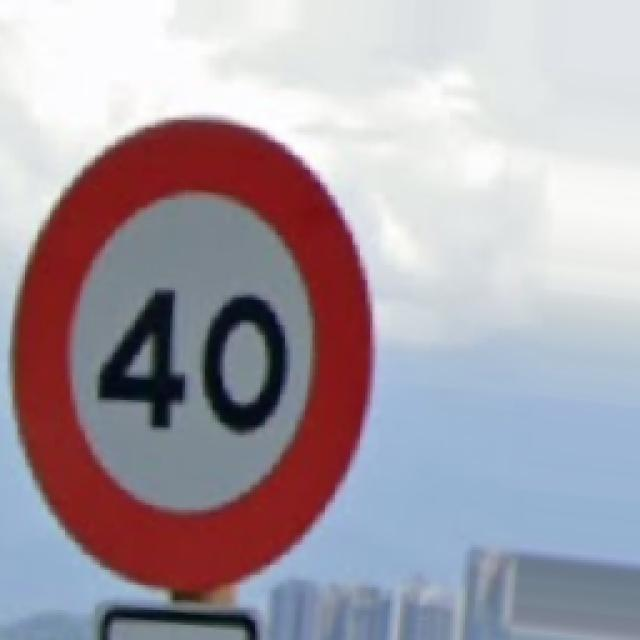Speed Limit -40-: (15, 120, 370, 588)
